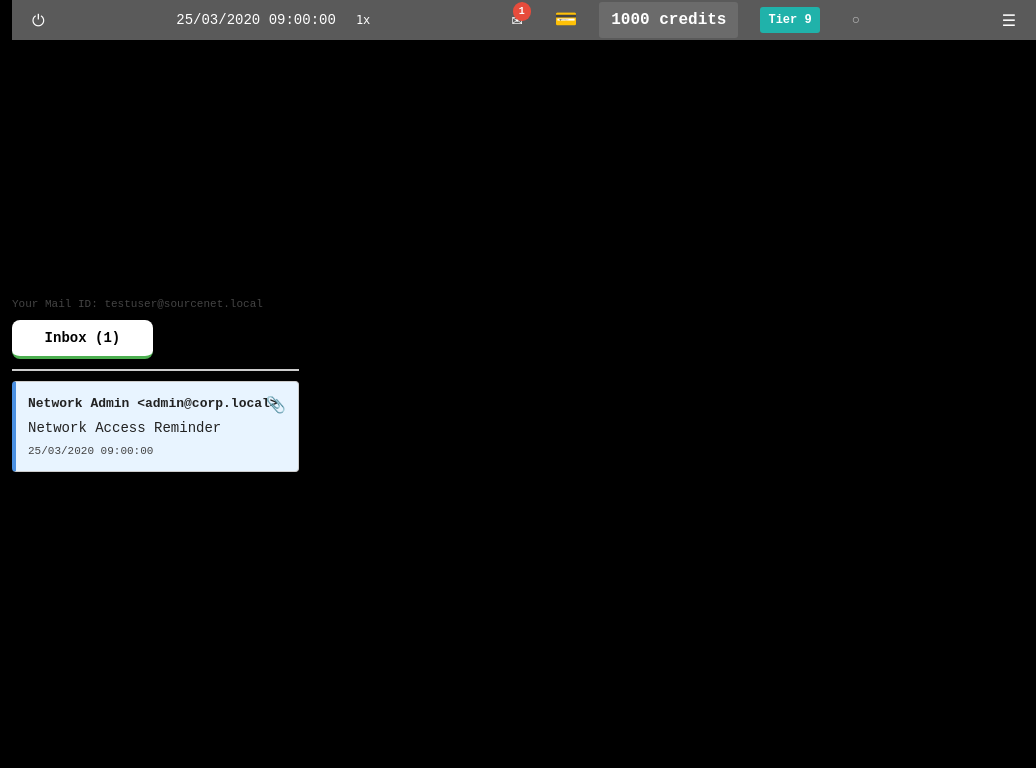
Test case: Network Address Integration › should display existing NAR entries as already added
Check: the text "Your Mail ID: testuser@sourcenet.local" is shown, box [12,296,299,312]
Step 1. Click the text "Network Access Reminder" → (125, 428), box [28,420,221,436]
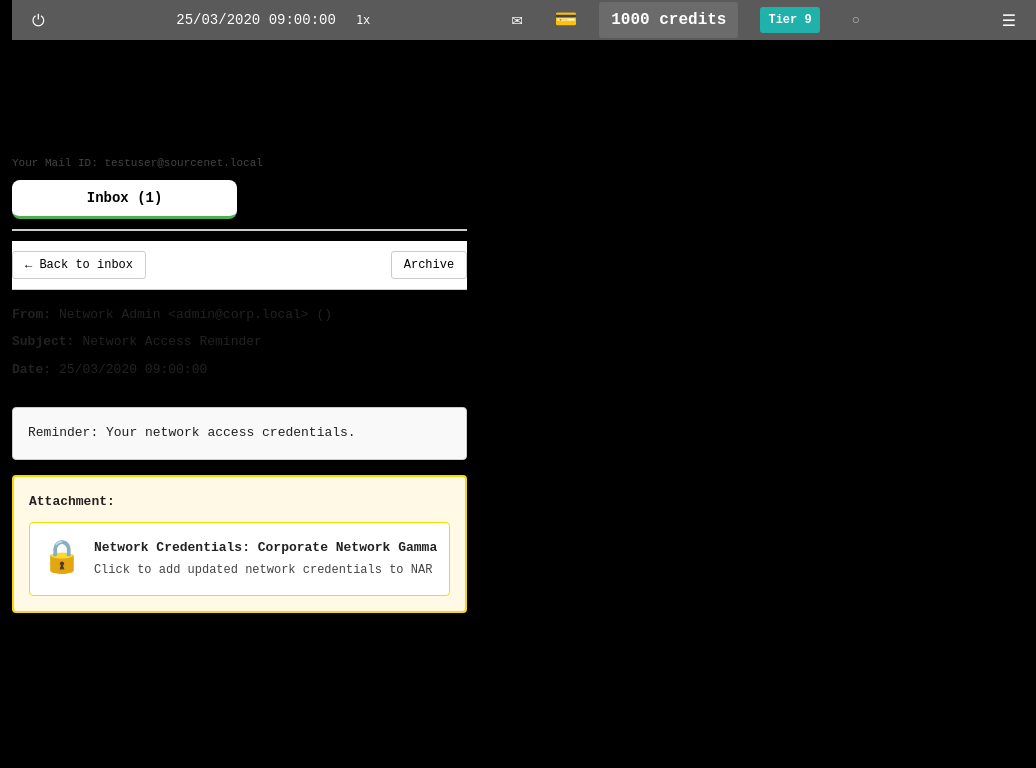
Check: the text "Click to add updated network credentials to NAR" is shown, box [94,561,437,579]
